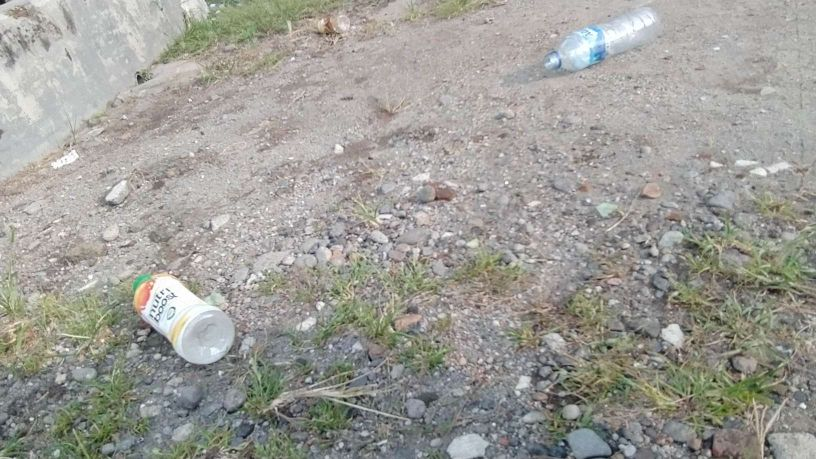botol: (105, 250, 247, 369), (531, 11, 674, 73)
